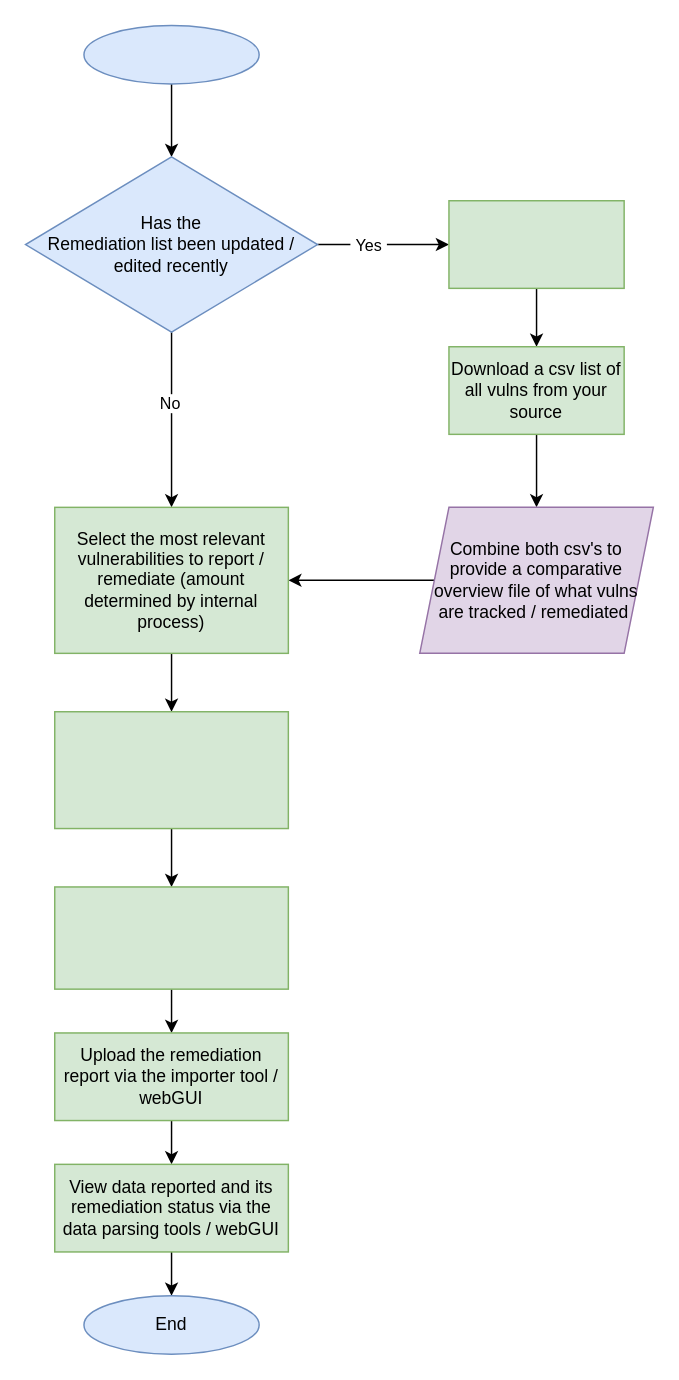
Some shapes in this 679 by 1380 pixel diagram are drawn without their labels. The centre of each missing label's shape, as x and y in pixels:
"Download a copy of the Remediation List overview csv" belongs at pixel 535 243.
"Download a specifically formatted remediation report from your source" belongs at pixel 170 769.
"Download any required specific vulnerability reports" belongs at pixel 170 937.
"Start" belongs at pixel 170 54.
